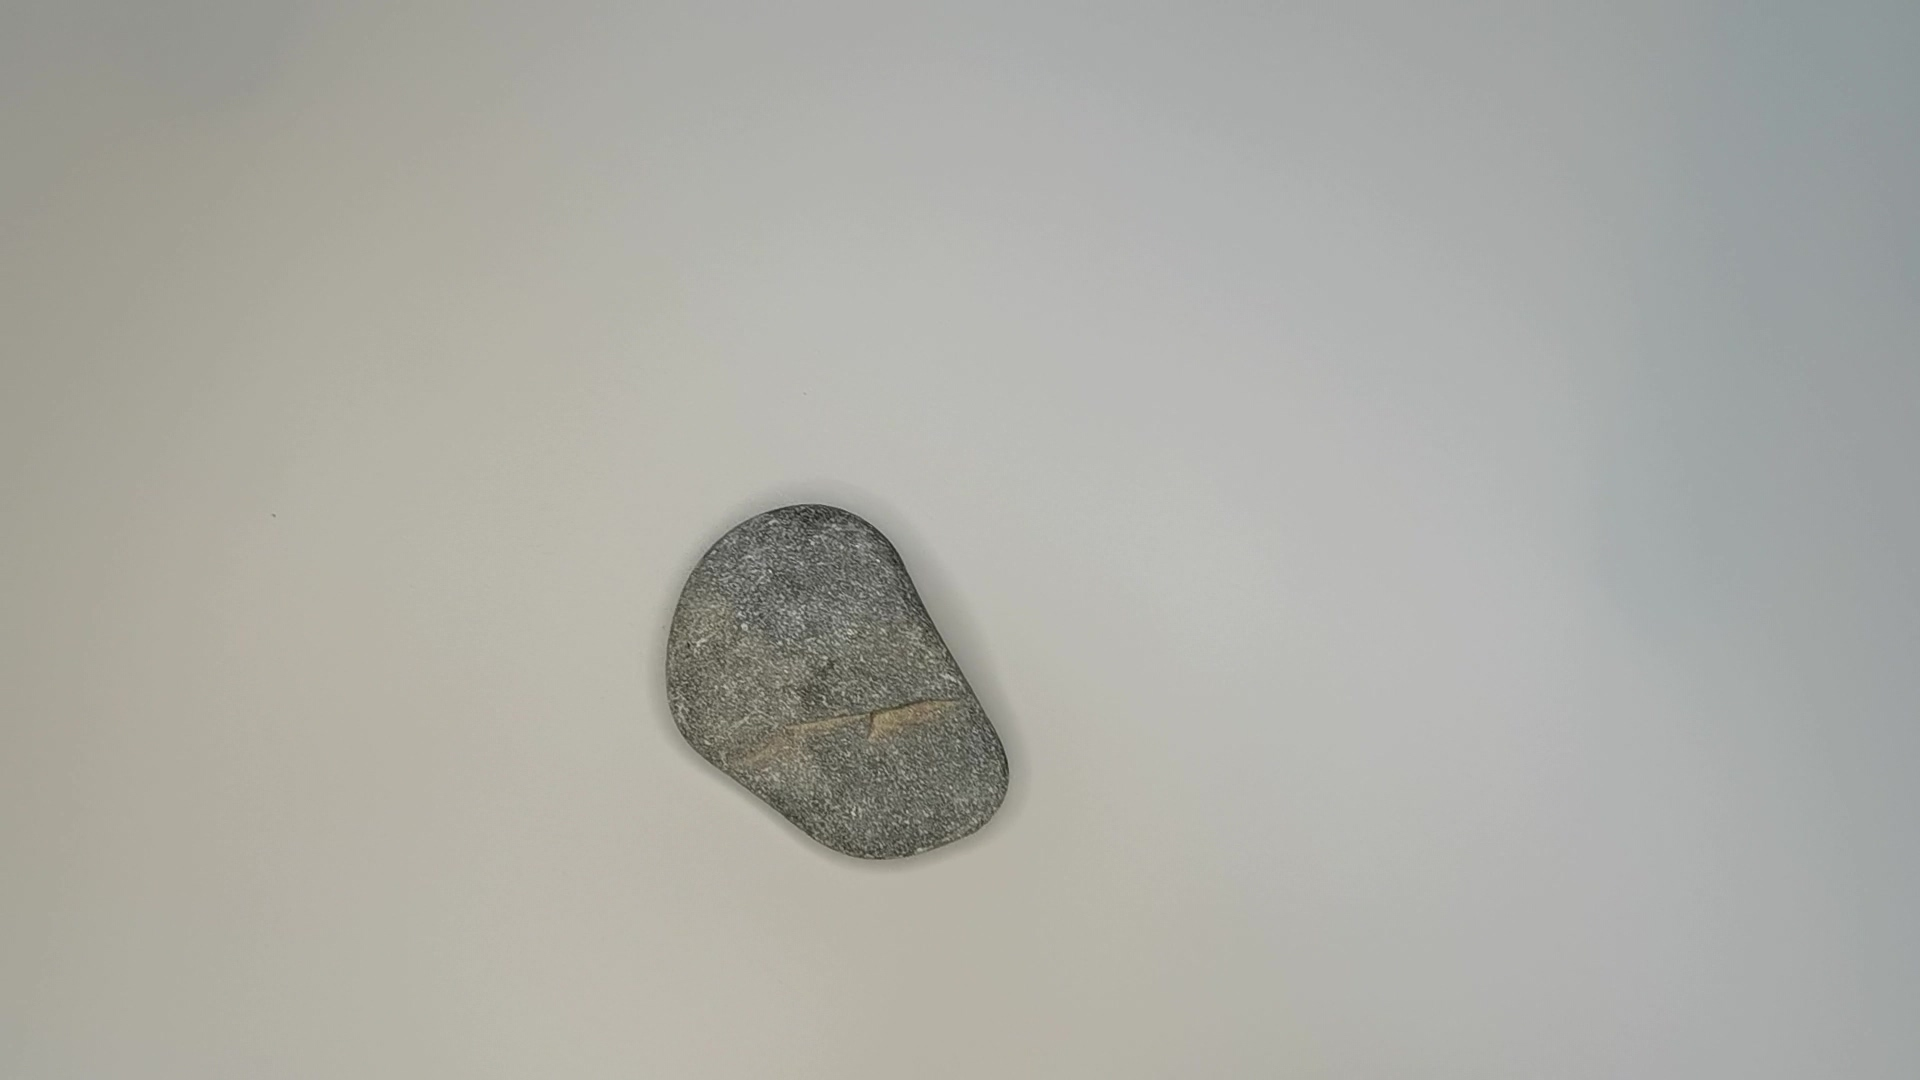ceramic: (654, 501, 1017, 865)
